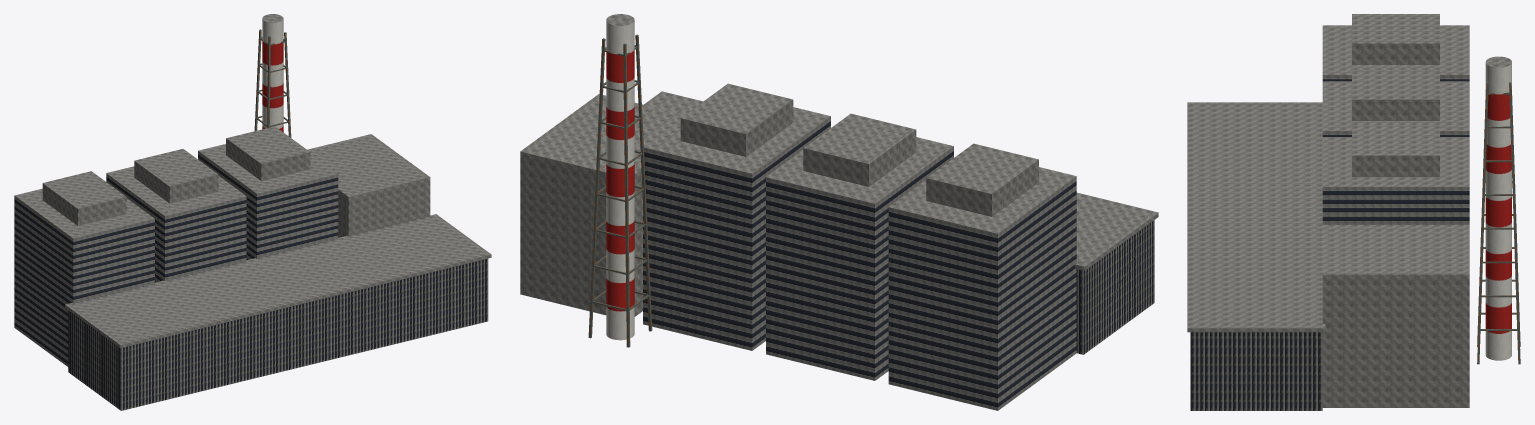
Rendered from power_plant.obj.
3 views of the same model, side by side, from view 1: azimuth 30°, elevation 25°; view 2: azimuth 150°, elevation 25°; view 3: azimuth 270°, elevation 25° (orthographic). The views are drawn at different scales.
Parts seen in each view (by area): view 1: TurbineHall_FacadeFins, Reactor_FacadeRibbon, TurbineHallRoof_Concrete, ReactorTop_Concrete, Sarcophagus_Concrete, Reactor_Concrete, Stack_Stripes, StackTruss_Steel; view 2: Reactor_FacadeRibbon, Sarcophagus_Concrete, ReactorTop_Concrete, Reactor_Concrete, Stack_Stripes, TurbineHall_FacadeFins, StackTruss_Steel, TurbineHallRoof_Concrete; view 3: TurbineHallRoof_Concrete, Sarcophagus_Concrete, ReactorTop_Concrete, Reactor_Concrete, TurbineHall_FacadeFins, Stack_Stripes, Reactor_FacadeRibbon, StackTruss_Steel.
Boxes of the visible parts, x1,y1,x2,y2 form: TurbineHall_FacadeFins: [68, 258, 488, 410]; Reactor_FacadeRibbon: [14, 151, 338, 366]; TurbineHallRoof_Concrete: [65, 214, 491, 348]; ReactorTop_Concrete: [42, 126, 310, 225]; Sarcophagus_Concrete: [307, 134, 430, 237]; Reactor_Concrete: [14, 144, 337, 238]; Stack_Stripes: [262, 19, 283, 132]; StackTruss_Steel: [254, 29, 291, 137]; Reactor_FacadeRibbon: [643, 116, 1076, 410]; Sarcophagus_Concrete: [520, 94, 684, 316]; ReactorTop_Concrete: [680, 83, 1038, 216]; Reactor_Concrete: [644, 107, 1076, 233]; Stack_Stripes: [606, 20, 634, 340]; TurbineHall_FacadeFins: [1076, 220, 1154, 354]; StackTruss_Steel: [588, 34, 652, 347]; TurbineHallRoof_Concrete: [644, 91, 1158, 270]; TurbineHallRoof_Concrete: [1187, 102, 1325, 332]; Sarcophagus_Concrete: [1322, 225, 1469, 407]; ReactorTop_Concrete: [1352, 14, 1439, 176]; Reactor_Concrete: [1322, 25, 1469, 186]; TurbineHall_FacadeFins: [1190, 332, 1322, 410]; Stack_Stripes: [1485, 63, 1511, 360]; Reactor_FacadeRibbon: [1322, 75, 1469, 224]; StackTruss_Steel: [1477, 82, 1520, 364].
Size of the model in its own units: 182 by 110 by 113.
5 materials, 5 textured.
